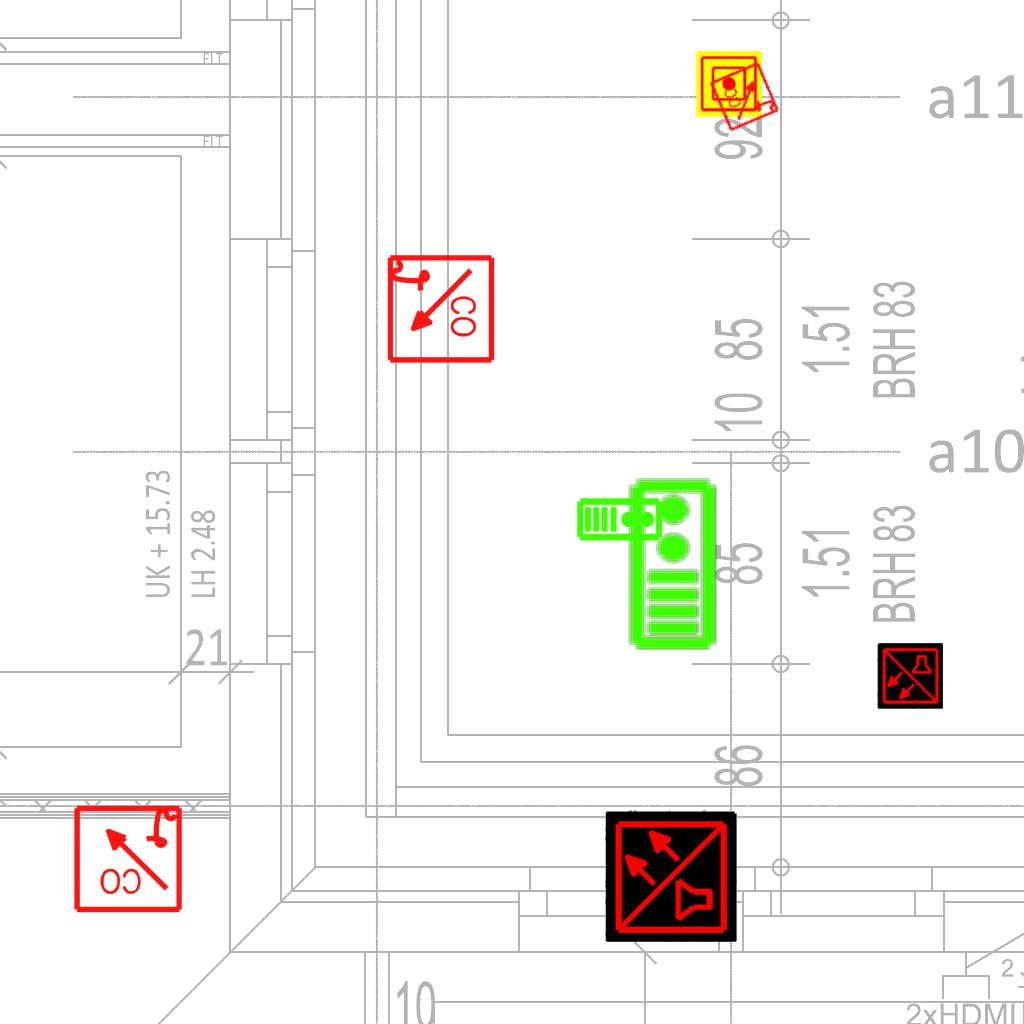Gegensprechanlage_mit_Video: (624, 476, 719, 652), (576, 495, 664, 542)
NAM-Nichtautomatischer_Melder: (696, 51, 762, 117)
OKW_Multisensormelder_(Kombination_optischer_Rauch-Kahlenmonoxid_Waerme-Melder): (605, 810, 737, 942), (877, 643, 943, 709)
ROA_Rauchmelder_optisch_mit_Signalgeber_(Sockelsirene): (71, 801, 184, 914), (383, 253, 496, 366), (708, 59, 782, 133)
